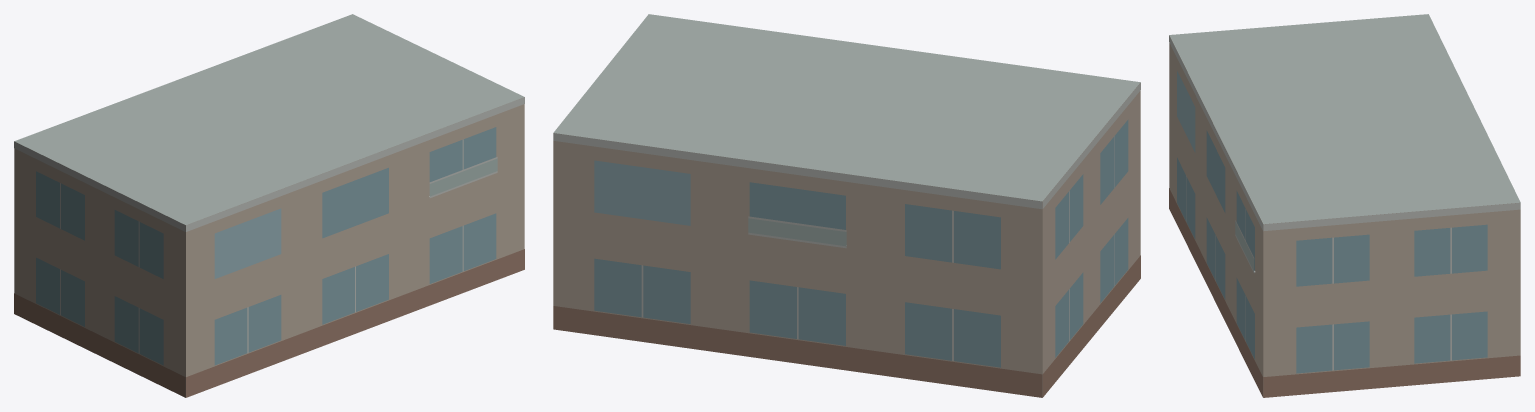
File: survey-upis-32627488.glb
The picture shows the model from 3 angles, left to right: view 1: azimuth 30°, elevation 25°; view 2: azimuth 150°, elevation 25°; view 3: azimuth 270°, elevation 25°; orthographic projection. The views are drawn at different scales.
Visible parts, largest first — view 1: survey-upis-32627488.tmp; view 2: survey-upis-32627488.tmp; view 3: survey-upis-32627488.tmp.
Boxes of the visible parts, x1,y1,x2,y2 form: survey-upis-32627488.tmp: (14, 14, 524, 397); survey-upis-32627488.tmp: (553, 14, 1140, 397); survey-upis-32627488.tmp: (1169, 14, 1520, 397).
Size of the model in its own units: 15.85 by 6.1 by 11.21.
